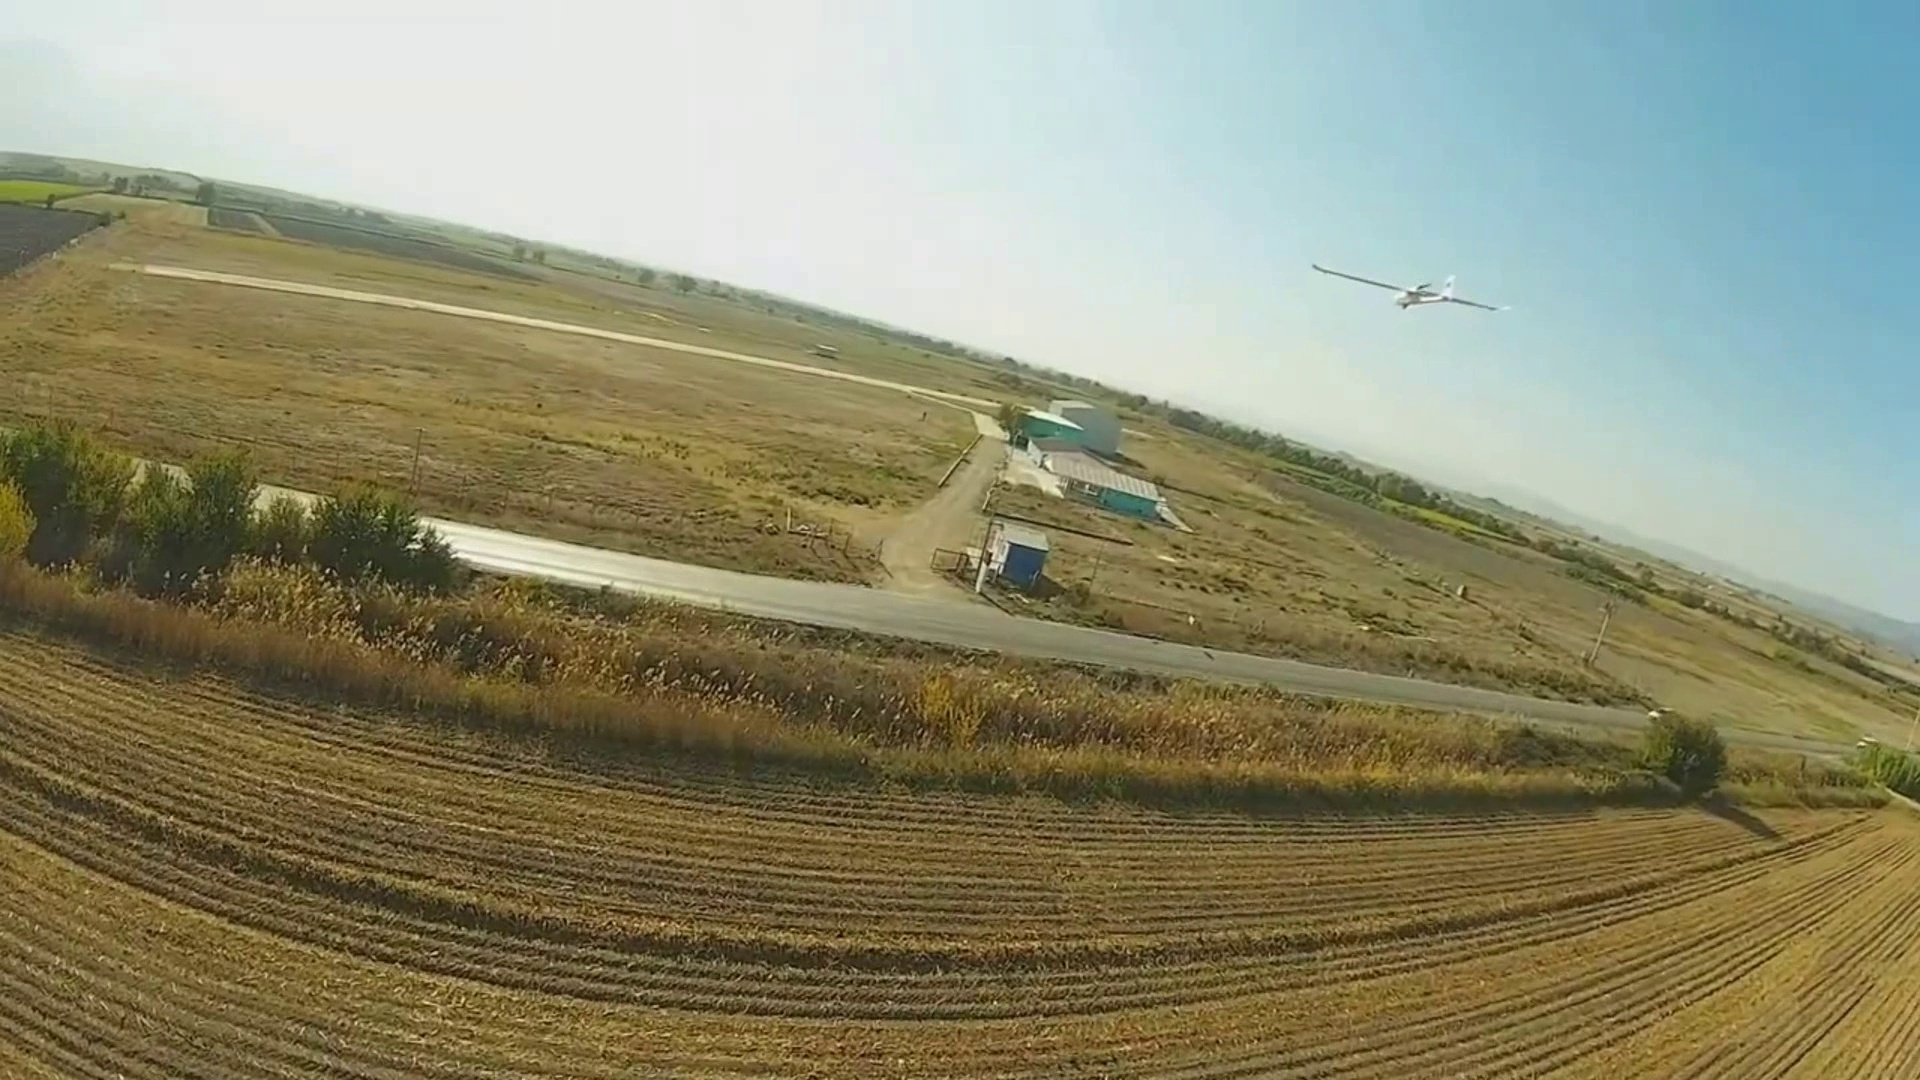airplane: (1305, 258, 1507, 314)
